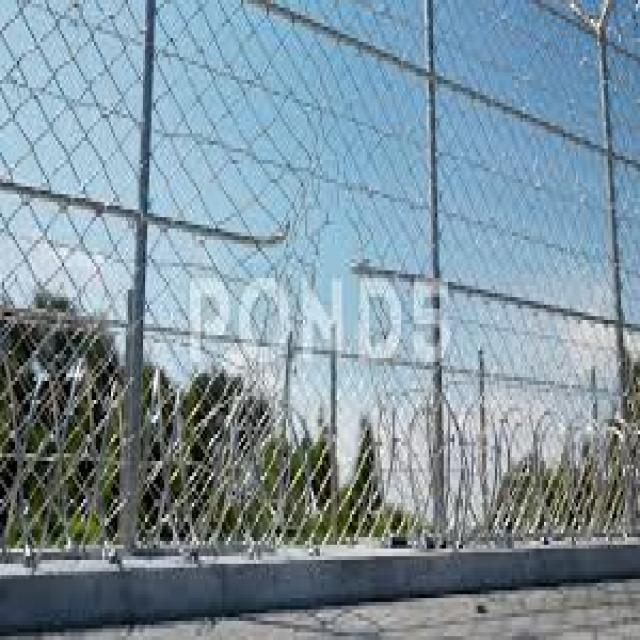fence line: (282, 217, 393, 517)
